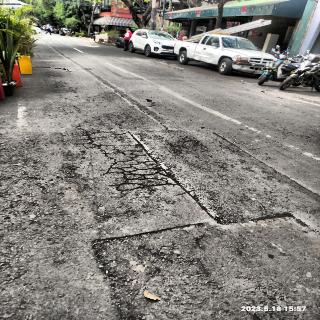alligator-crack: (75, 126, 180, 200)
crack: (73, 202, 314, 294)
